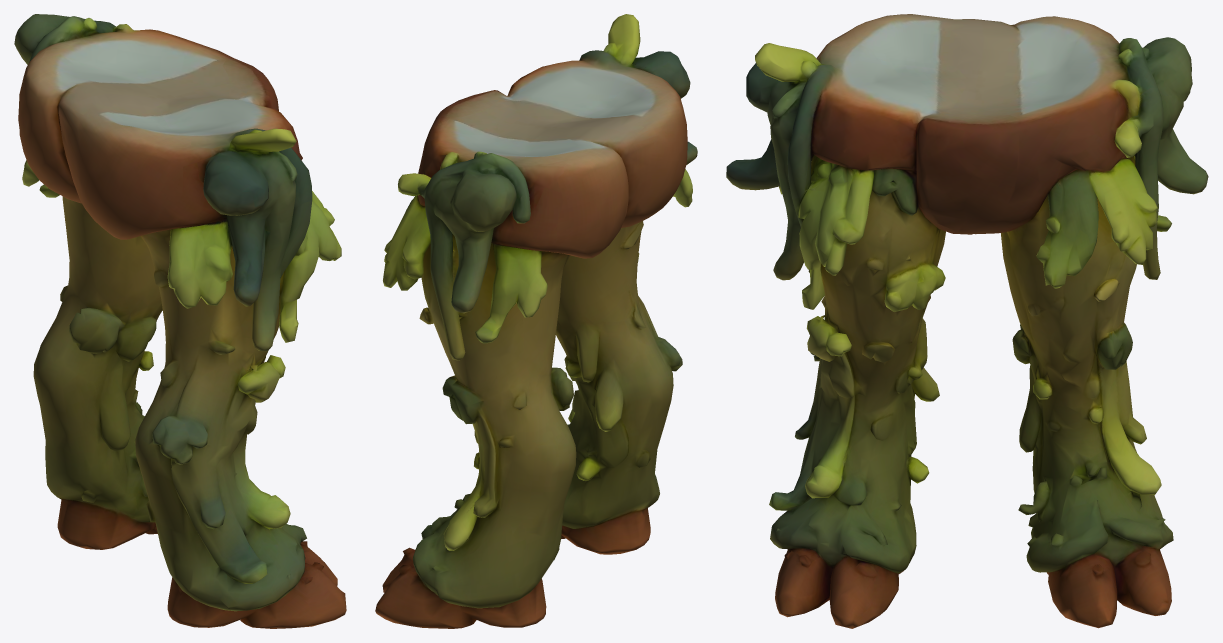
Rendered from legs.glb.
3 views of the same model, side by side, from view 1: azimuth 30°, elevation 25°; view 2: azimuth 150°, elevation 25°; view 3: azimuth 270°, elevation 25° (orthographic). The views are drawn at different scales.
Visible parts, largest first — view 1: tripo_node_e6925f83-fe9c-417c-9989-9b6ce5d85600; view 2: tripo_node_e6925f83-fe9c-417c-9989-9b6ce5d85600; view 3: tripo_node_e6925f83-fe9c-417c-9989-9b6ce5d85600.
Boxes of the visible parts, left/top/right/bottom form: tripo_node_e6925f83-fe9c-417c-9989-9b6ce5d85600: left=14, top=14, right=346, bottom=628; tripo_node_e6925f83-fe9c-417c-9989-9b6ce5d85600: left=375, top=14, right=697, bottom=628; tripo_node_e6925f83-fe9c-417c-9989-9b6ce5d85600: left=726, top=14, right=1208, bottom=628.
Bounding box in the file's own units: 0.4474 × 1 × 0.8154.
Materials: 1 (1 with a texture image).
